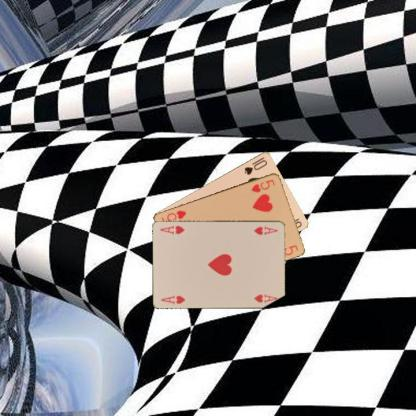10s: (242, 154, 268, 176)
5h: (249, 176, 276, 193)
Ah: (159, 292, 187, 305), (251, 223, 278, 236)
